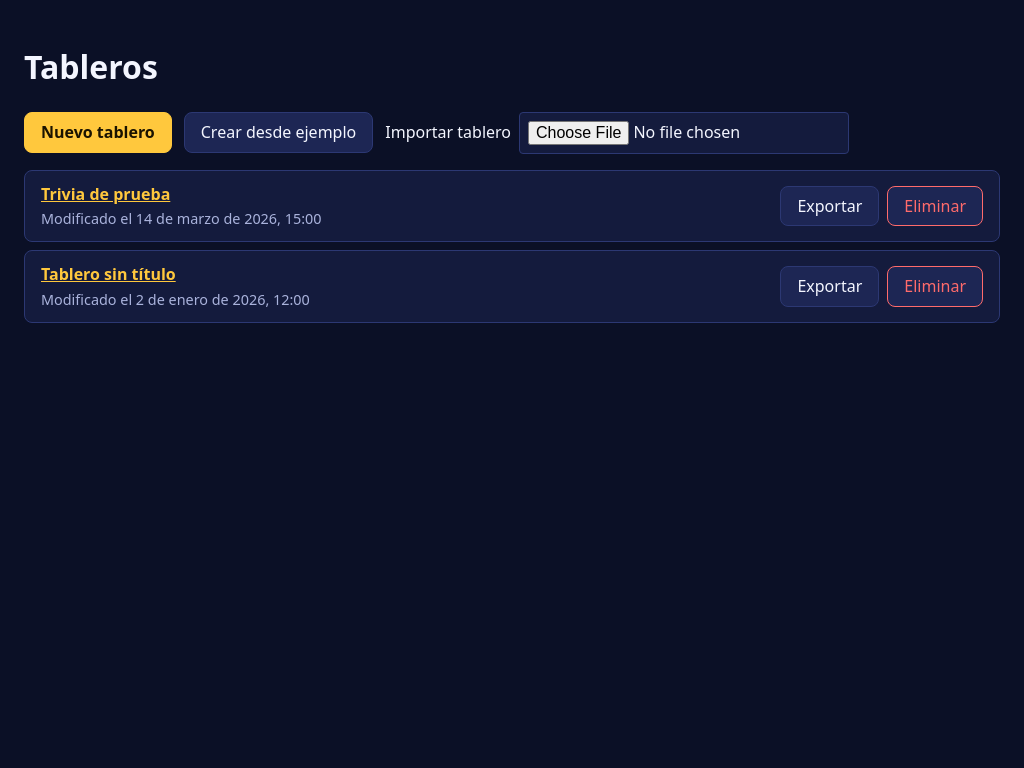
it: BoardListScreen › avisa si falla la eliminación y el tablero sigue en la lista
Click the button with aria-label "Eliminar Trivia de prueba" at x=935, y=206, box left=887, top=186, right=983, bottom=226
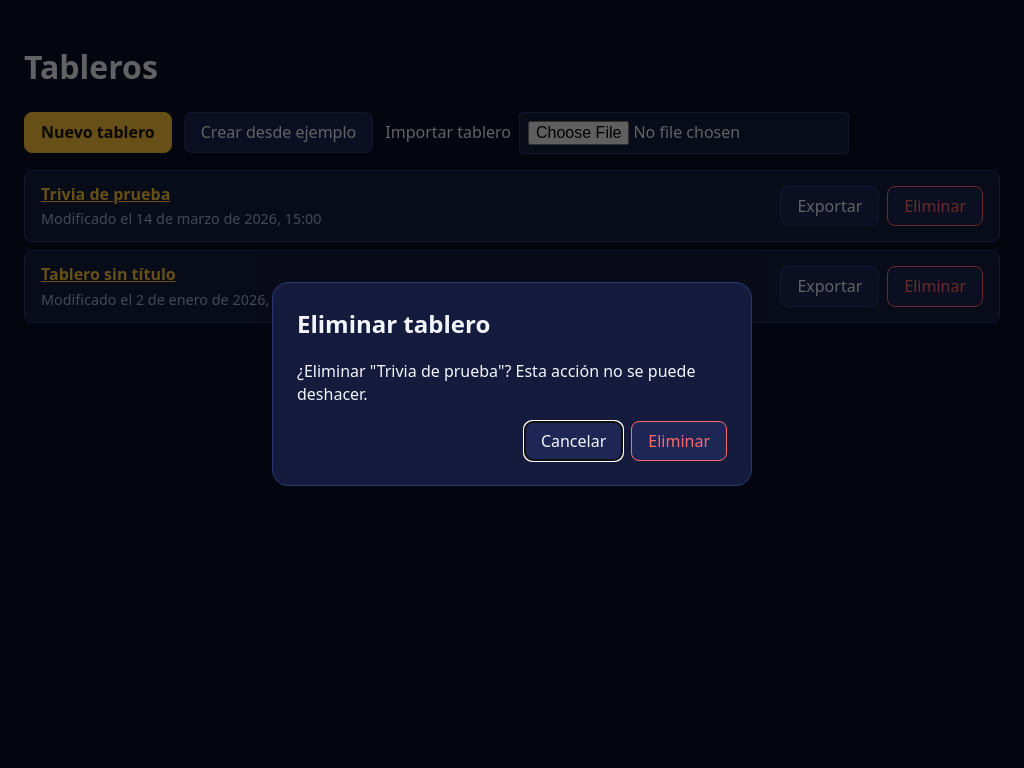
Click the button "Eliminar" at x=679, y=441, box left=631, top=421, right=727, bottom=461
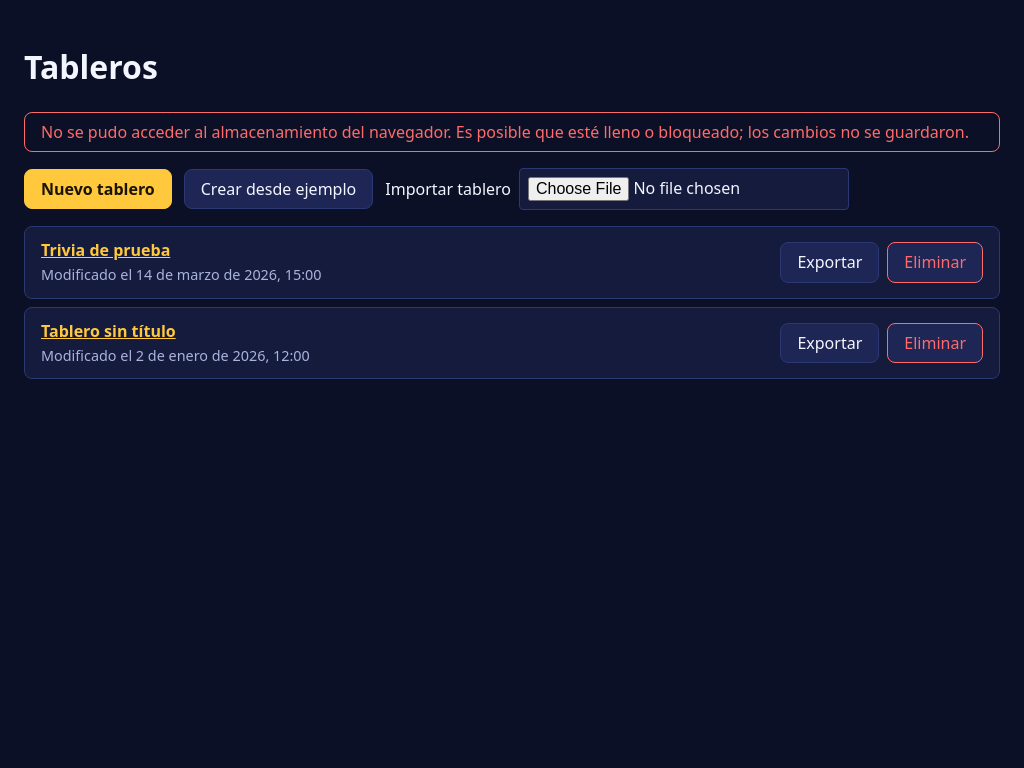
Expected: the link "Trivia de prueba" is shown, left=41, top=239, right=170, bottom=261
Expected: the message shows "los cambios no se guardaron", left=41, top=121, right=969, bottom=143
